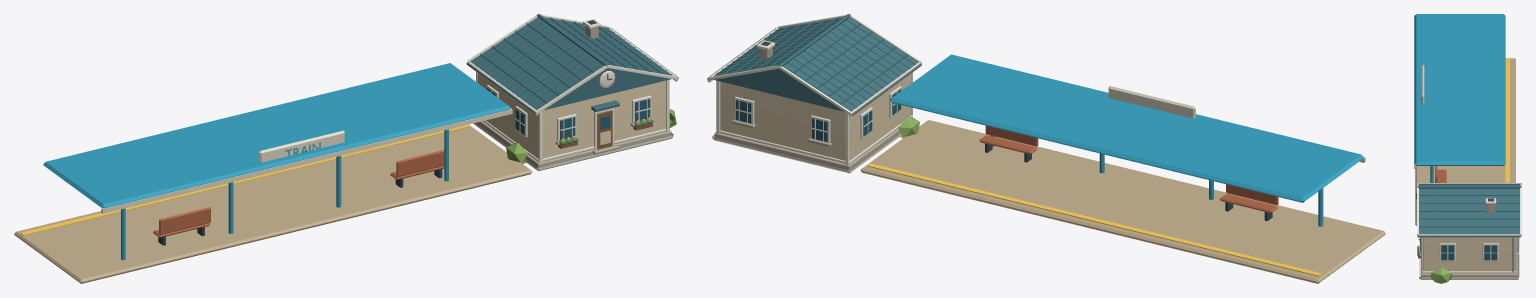
File: train-platform.glb
3 renders of one model, left to right at view 1: azimuth 30°, elevation 25°; view 2: azimuth 150°, elevation 25°; view 3: azimuth 270°, elevation 25°, orthographic. The views are drawn at different scales.
Visible parts, largest first — view 1: TrainPlatform; view 2: TrainPlatform; view 3: TrainPlatform.
Part boxes in pixels (box(x1,y1,x2,y2)): TrainPlatform: box(14, 14, 678, 283); TrainPlatform: box(707, 14, 1385, 283); TrainPlatform: box(1414, 14, 1521, 283).
Bounding box in the file's own units: 28.35 × 4.19 × 5.77.
